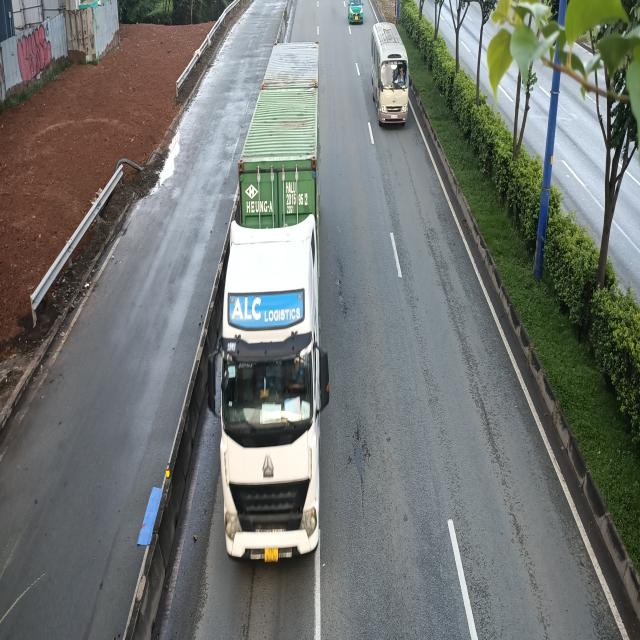car: (348, 0, 364, 25)
coach: (369, 23, 409, 129)
container: (208, 42, 328, 572)
